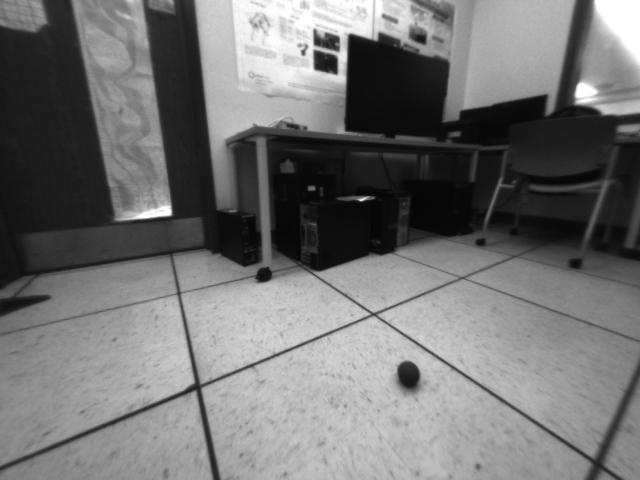dogtoy: (392, 354, 429, 395)
